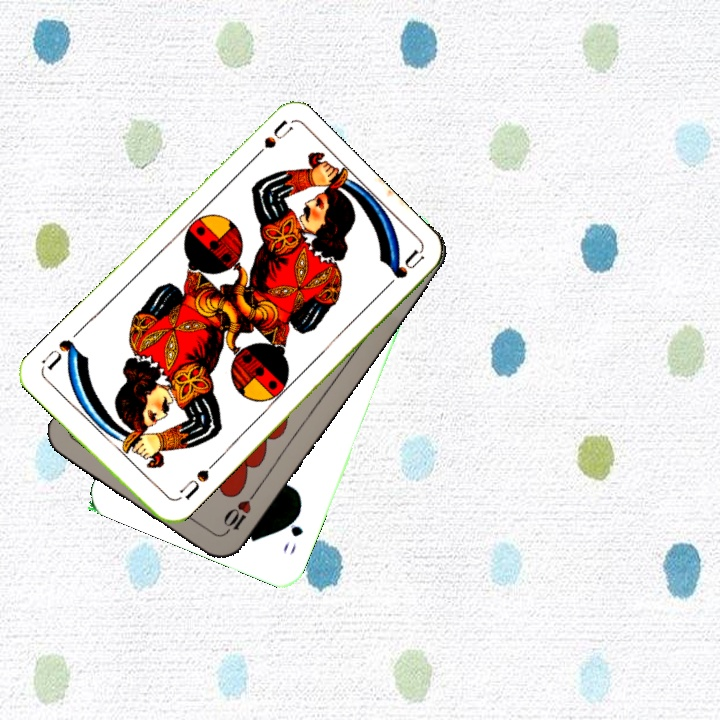GO: (278, 505, 306, 557)
H10: (219, 487, 259, 538)
SU: (244, 117, 294, 166), (175, 458, 218, 502)
